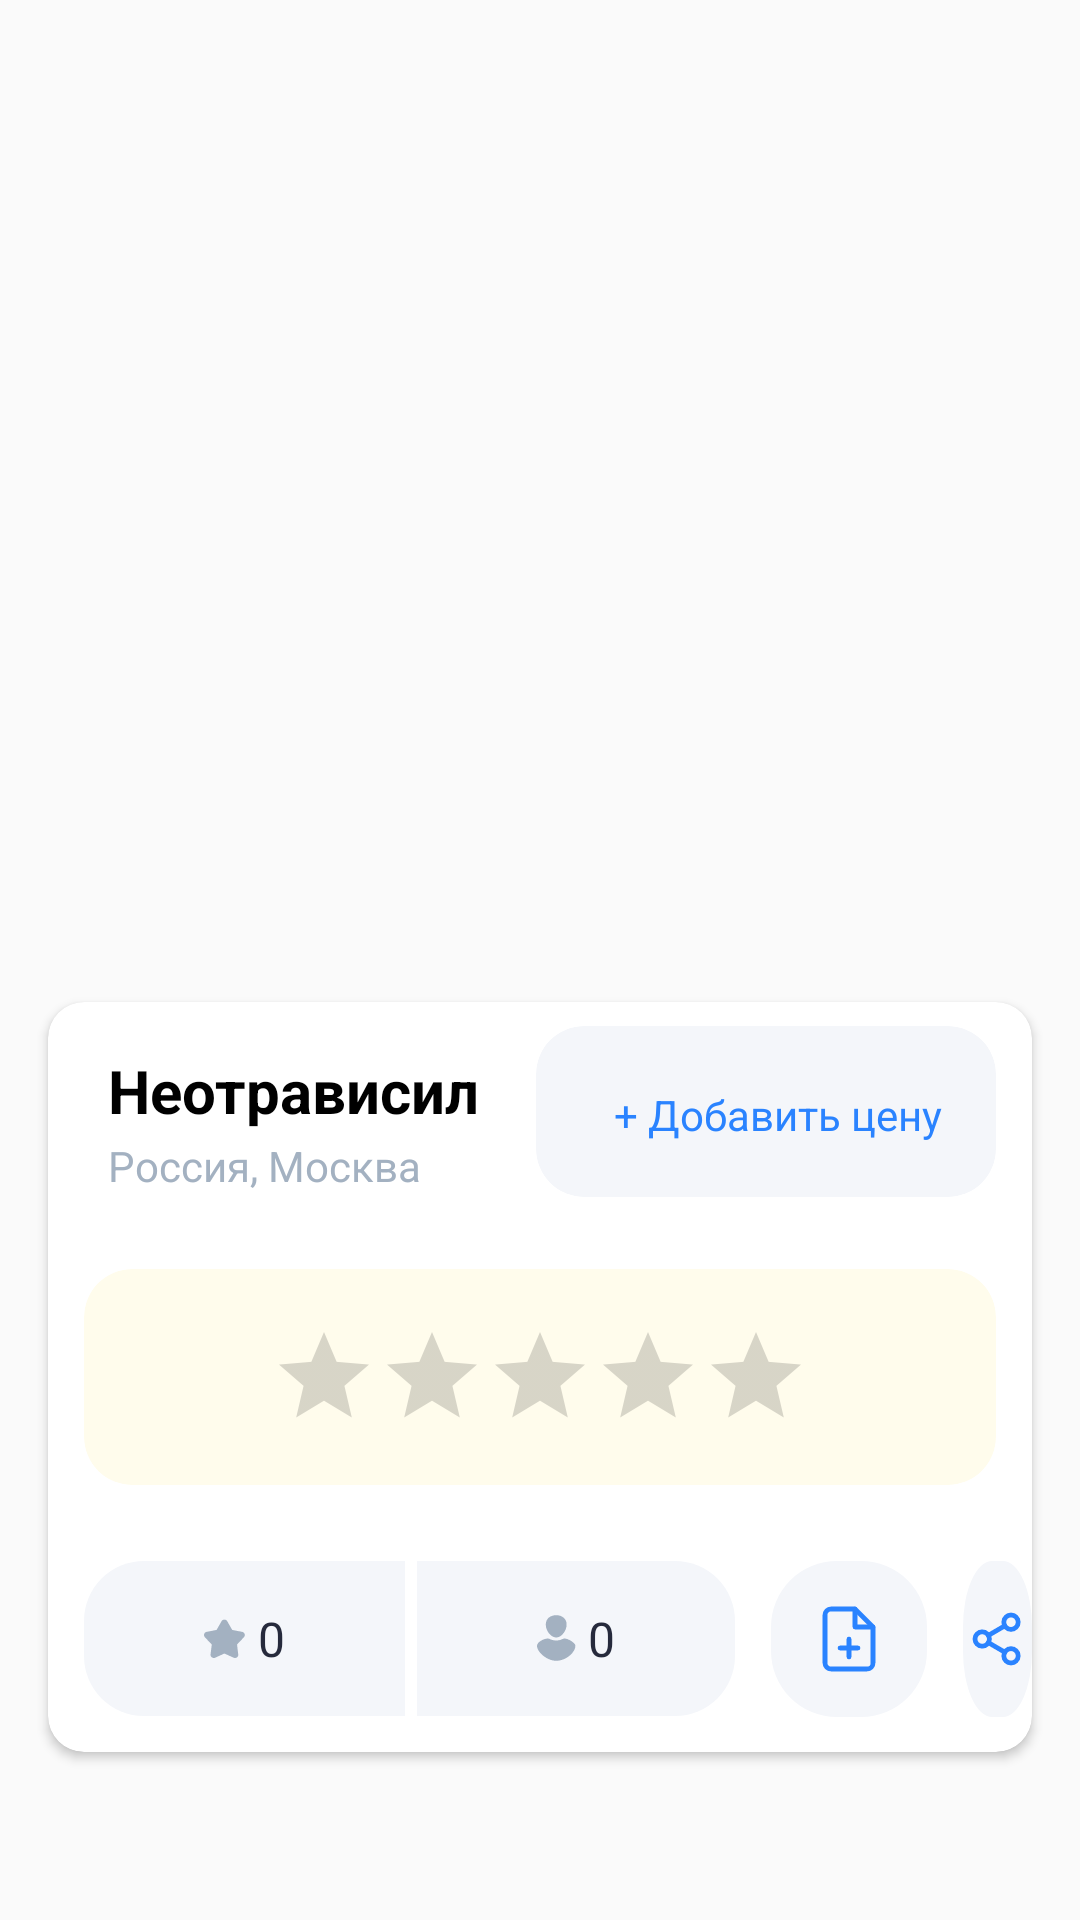

Screen size 1080w x 1920h. Icon name, then its center in pixels as (x=x, y=y):
add: (x=849, y=1639)
share: (x=996, y=1639)
user: (x=556, y=1638)
